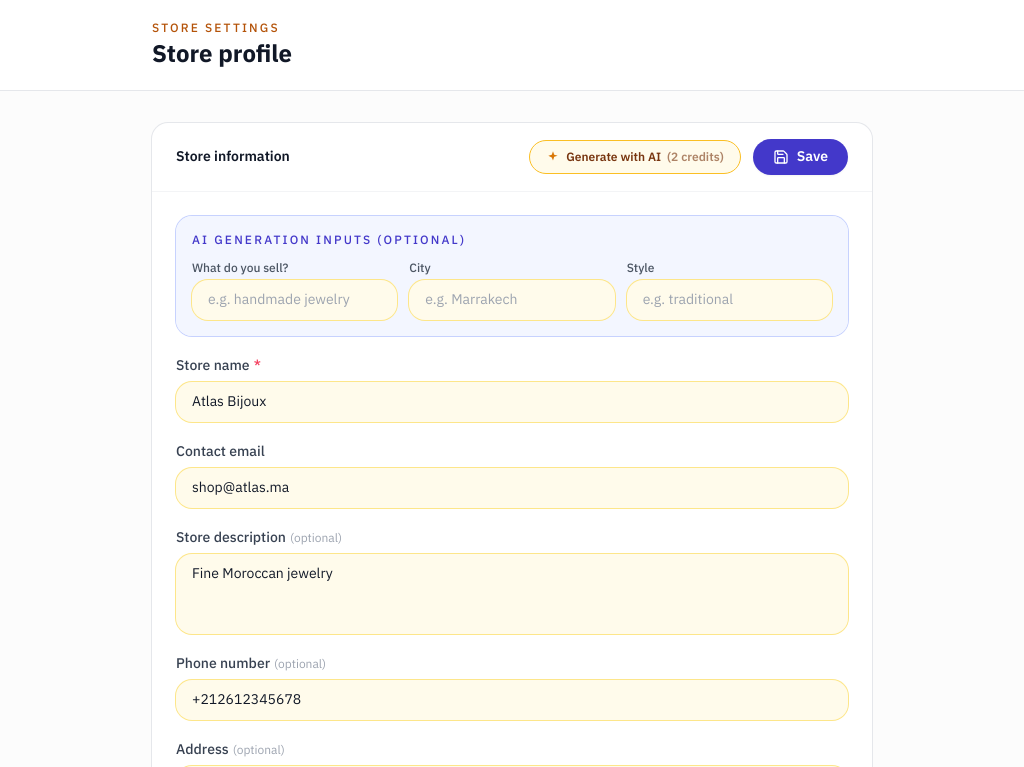
Test: StoreSettingsPage — real load + save › shows 422 validation error under inputs after failed save
Expected: the field showing "Atlas Bijoux" is shown, [176, 382, 848, 422]
Click the button "Save".
click(800, 157)  # box [753, 139, 848, 175]
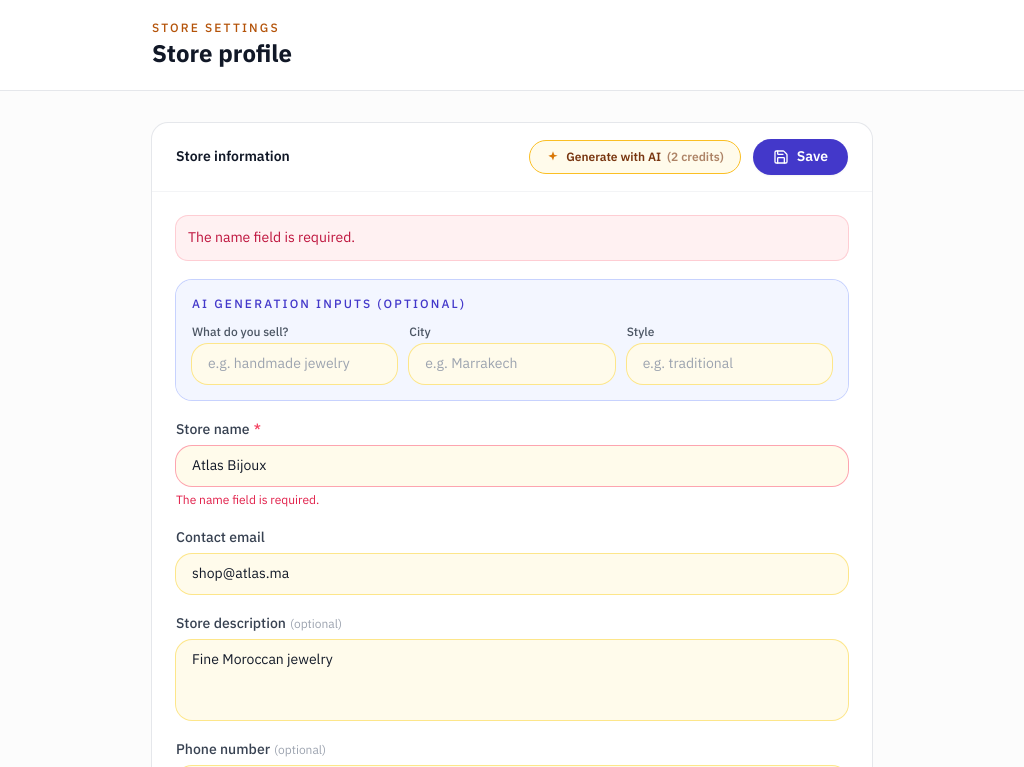
Expected: the text "The name field is required." is shown, [176, 216, 848, 260]
